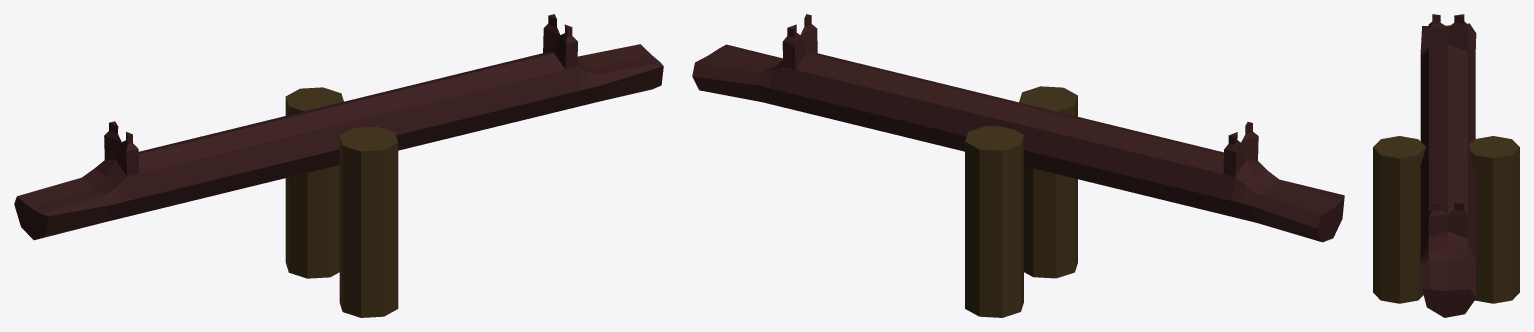
File: Gangorra.fbx
3 views of the same model, side by side, from view 1: azimuth 30°, elevation 25°; view 2: azimuth 150°, elevation 25°; view 3: azimuth 270°, elevation 25° (orthographic). The views are drawn at different scales.
Parts seen in each view (by area): view 1: Cylinder; view 2: Cylinder; view 3: Cylinder.
Boxes of the visible parts, x1,y1,x2,y2 form: Cylinder: [14, 14, 663, 317]; Cylinder: [692, 14, 1344, 317]; Cylinder: [1373, 14, 1519, 317].
Bounding box in the file's own units: 906 × 292 × 211.
